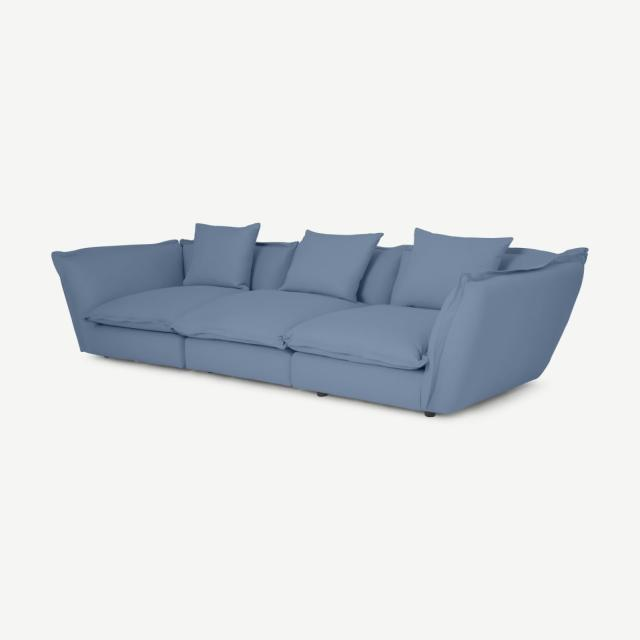back_cushion: (185, 224, 488, 309)
left_arm: (419, 248, 587, 413)
legs: (425, 411, 434, 418), (316, 392, 328, 397)
right_arm: (51, 240, 182, 350)
seat_cushion: (83, 286, 434, 408)
stallion-sofa: (0, 0, 639, 639)
